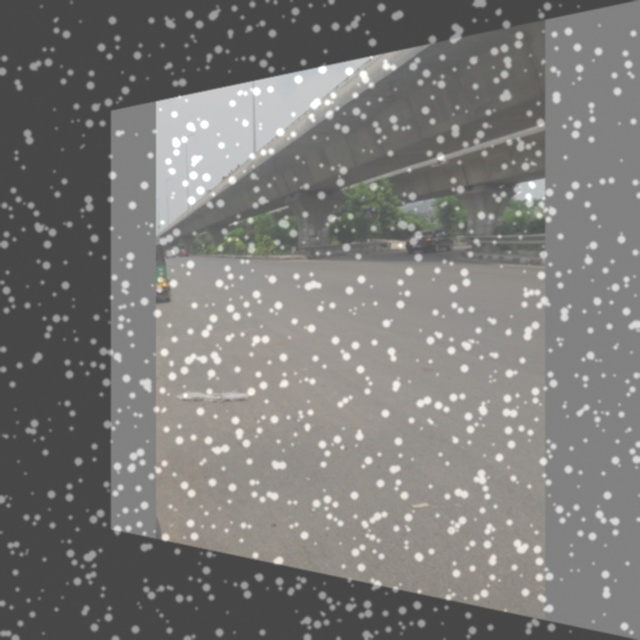Pedestrian_Crossing: (359, 205, 373, 220)
